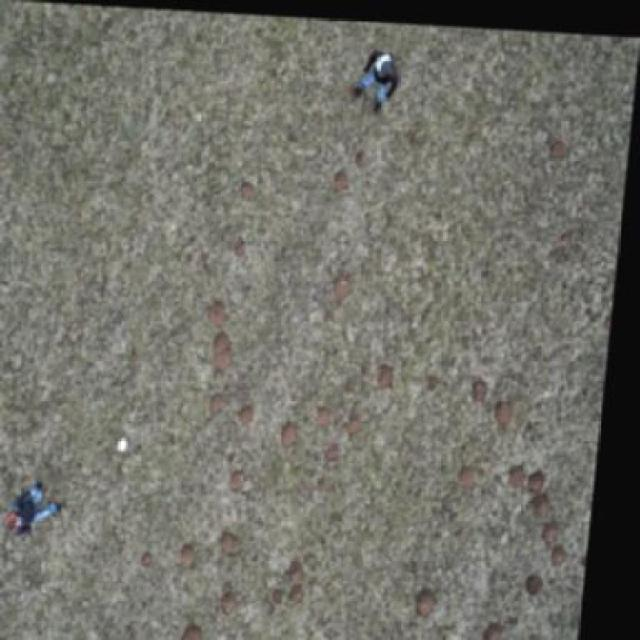Person: (10, 466, 79, 546), (345, 37, 412, 114)
